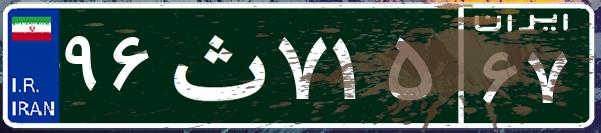1: (330, 28, 385, 110)
5: (385, 28, 445, 110)
6: (475, 38, 525, 113), (110, 28, 158, 105)
7: (273, 28, 330, 110), (525, 38, 570, 115)
9: (57, 26, 110, 107)
ث: (158, 15, 273, 115)
